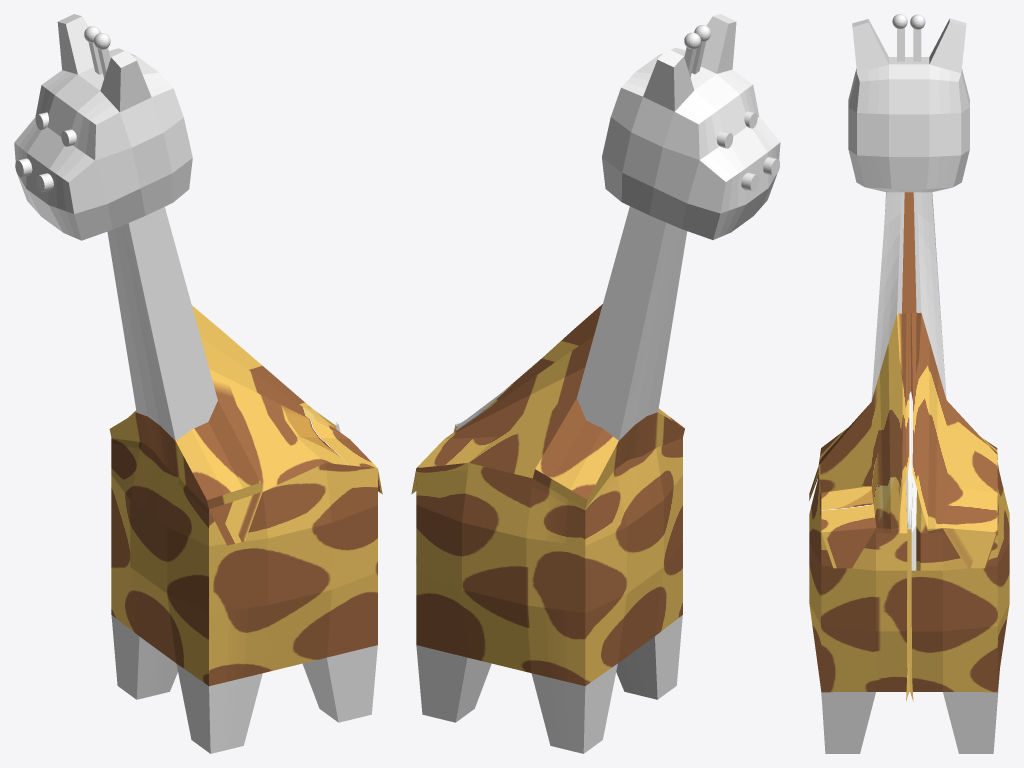
File: rafrafwalkinggltf.gltf
3 views of the same model, side by side, from view 1: azimuth 30°, elevation 25°; view 2: azimuth 150°, elevation 25°; view 3: azimuth 270°, elevation 25° (orthographic). The views are drawn at different scales.
Visible parts, largest first — view 1: Cube, Cube.002, Cube.001, Cube.003; view 2: Cube, Cube.003, Cube.004, Cube.002; view 3: Cube, Cube.004, Cube.001.
Part boxes in pixels (x1,y1,x2,y2): Cube: (14, 14, 382, 686); Cube.002: (176, 663, 262, 753); Cube.001: (302, 645, 377, 722); Cube.003: (111, 615, 177, 699); Cube: (411, 14, 780, 685); Cube.003: (531, 663, 617, 753); Cube.004: (416, 645, 491, 722); Cube.002: (616, 615, 682, 699); Cube: (809, 14, 1009, 701); Cube.004: (943, 670, 999, 753); Cube.001: (820, 688, 875, 753).
Size of the model in its own units: 3.61 by 7.03 by 2.
6 materials, 1 textured.
